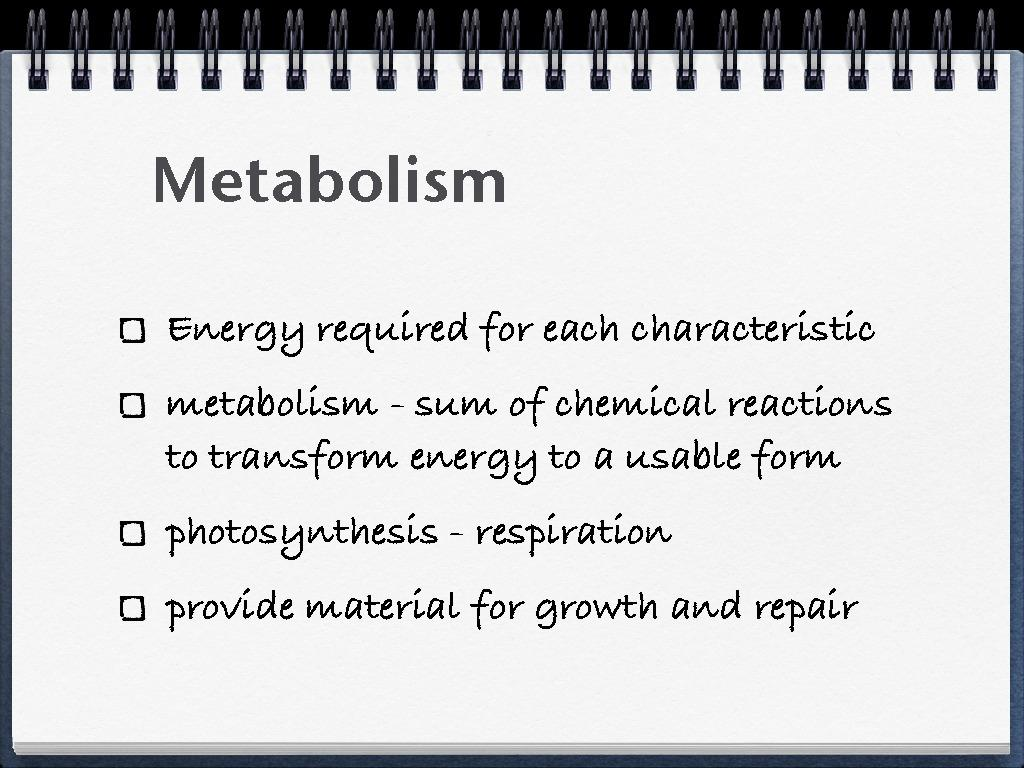paragraph: (113, 287, 913, 661)
title: (148, 143, 523, 209)
